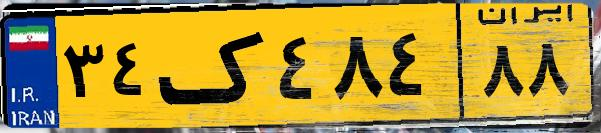3: (57, 26, 110, 100)
4: (270, 28, 330, 110), (385, 28, 445, 110), (110, 28, 158, 98)
8: (330, 28, 385, 110), (475, 38, 525, 113), (525, 38, 570, 115)
ک: (158, 12, 270, 120)
